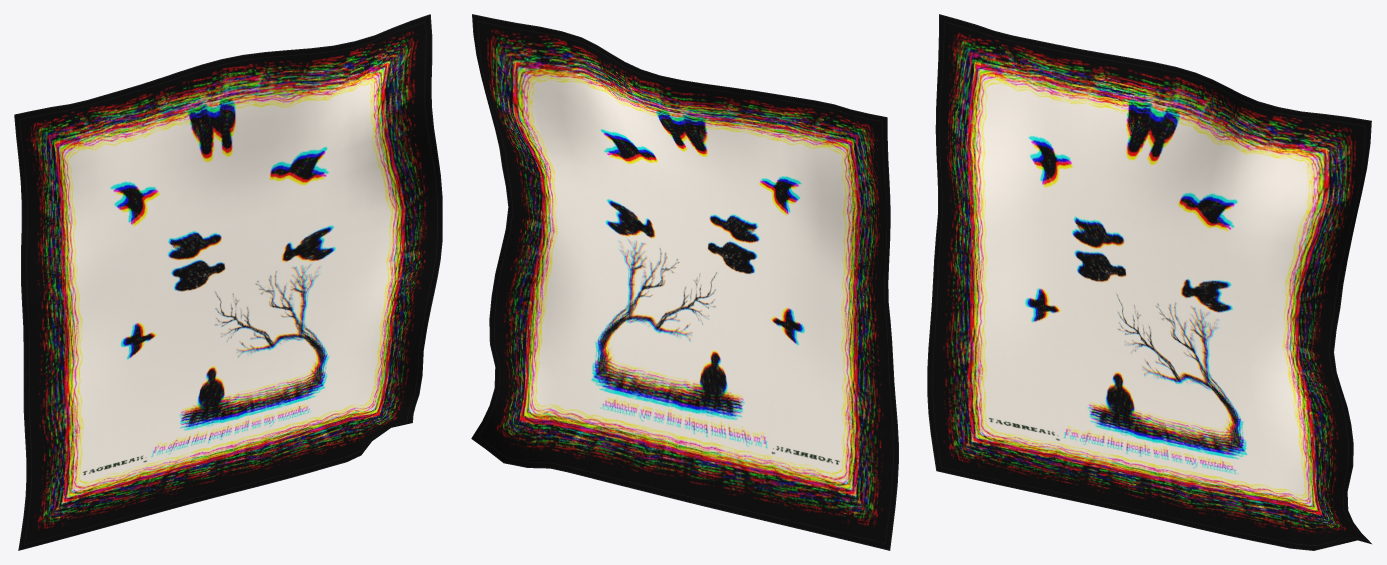
Rendered from mistake.glb.
The picture shows the model from 3 angles, left to right: view 1: azimuth 30°, elevation 25°; view 2: azimuth 150°, elevation 25°; view 3: azimuth 330°, elevation 25°; orthographic projection. The views are drawn at different scales.
Visible parts, largest first — view 1: Plane; view 2: Plane; view 3: Plane.
Part boxes in pixels (<box>): Plane: <box>14,14,442,550</box>; Plane: <box>471,14,898,550</box>; Plane: <box>927,14,1371,550</box>.
Bounding box in the file's own units: 2 × 2 × 0.3129.
Materials: 1 (1 with a texture image).
